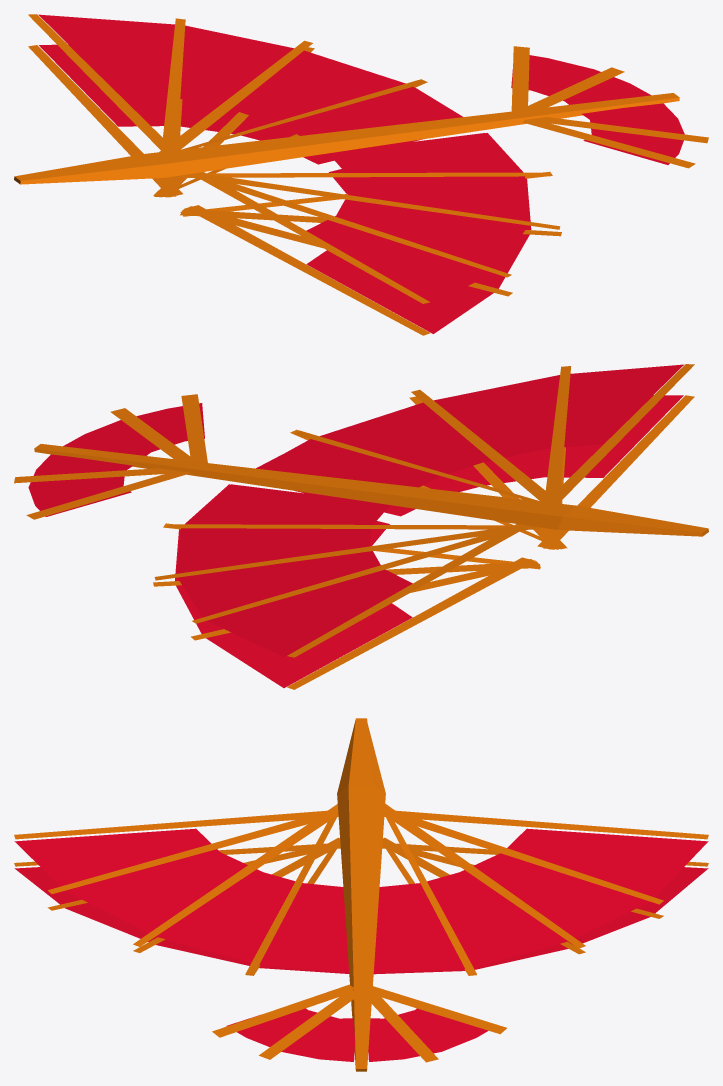
Rendered from aang.fbx.
3 views of the same model, one above another, from view 1: azimuth 30°, elevation 25°; view 2: azimuth 150°, elevation 25°; view 3: azimuth 270°, elevation 25° (orthographic). The views are drawn at different scales.
Parts seen in each view (by area): view 1: right wing.001, left wing.001, Cube.001, right wing, left wing, right small wing, left small wing, right1, right3.001, right1.001, left3.001, left1.001 (+13 smaller); view 2: left wing.001, right wing.001, Cube.001, left wing, right wing, left small wing, right small wing, left1, left3.001, left1.001, left2.001, right2.001 (+13 smaller); view 3: left wing.001, right wing.001, Cube.001, left small wing, right small wing, right wing, left wing, right1.001, left1.001, left3.001, right2.001, left2.001 (+12 smaller).
Part boxes in pixels (x1,y1,x2,y2): right wing.001: (306,133,529,303); left wing.001: (38,14,461,135); Cube.001: (14,93,679,184); right wing: (306,133,531,333); left wing: (39,44,462,164); right small wing: (582,103,684,164); left small wing: (511,55,650,104); right1: (185,205,430,335); right3.001: (180,173,560,229); right1.001: (191,172,429,303); left3.001: (159,40,312,152); left1.001: (28,14,174,150); left wing.001: (176,484,412,657); right wing.001: (257,364,684,487); Cube.001: (34,444,708,536); left wing: (175,484,412,687); right wing: (256,395,683,516); left small wing: (28,454,132,516); right small wing: (63,403,204,455); left1: (287,557,535,689); left3.001: (154,525,540,580); left1.001: (287,524,525,657); left2.001: (192,524,533,623); right2.001: (544,366,571,503); left wing.001: (373,828,708,972); right wing.001: (14,828,349,972); Cube.001: (337,718,385,1071); left small wing: (368,1008,488,1061); right small wing: (226,1008,354,1061); right wing: (14,867,349,973); left wing: (373,867,708,974); right1.001: (14,810,338,839); left1.001: (384,810,708,839); left3.001: (385,804,585,948); right2.001: (48,808,337,893); left2.001: (385,807,663,904).
Bounding box in the file's own units: 3644 × 427 × 3784.
